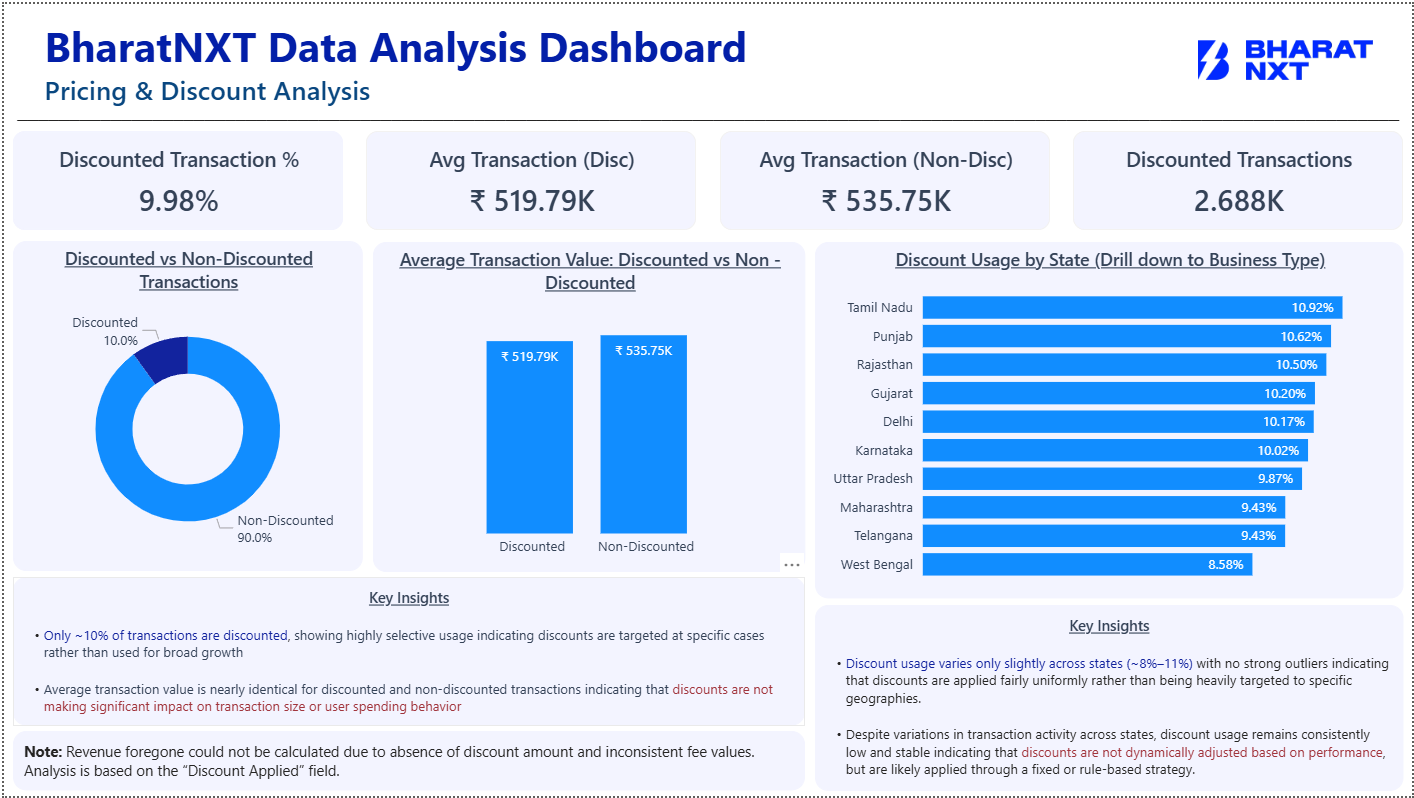

The dashboard page shown, as its layout file describes it:
{"tool":"powerbi","page":{"name":"Pricing & Discount Analysis","canvas":[1280,720],"ordinal":5},"visuals":[{"type":"textbox","box":[32,7,656,62],"z":0},{"type":"cardVisual","fields":{"Data":["Measures Table.Discounted Transaction %"]},"box":[8,115.6,300,90],"z":1000},{"type":"cardVisual","fields":{"Data":["Measures Table.Avg Transaction (Discounted)"]},"box":[329.3,115.6,300,90],"z":2000},{"type":"cardVisual","fields":{"Data":["Measures Table.Avg Txn (Non-Discounted)"]},"box":[650.7,115.6,300,90],"z":3000},{"type":"textbox","box":[32,56,367,46],"z":4000},{"type":"textbox","box":[0,91,1280,27],"z":5000},{"type":"cardVisual","fields":{"Data":["Measures Table.Discounted Transactions"]},"box":[972,115.6,300,90],"z":6000},{"type":"clusteredColumnChart","title":"Average Transaction Value: Discounted vs Non - Discounted","fields":{"Category":["Transaction MIS copy.Discount Label"],"Y":["Measures Table.Avg Transaction Value"]},"box":[335,216,393,300],"z":7000},{"type":"donutChart","title":"Discounted vs Non-Discounted Transactions","fields":{"Category":["Transaction MIS copy.Discount Label"],"Y":["Measures Table.Total Transactions"]},"box":[7.8,215.6,317.8,300],"z":8000},{"type":"clusteredBarChart","title":"Discount Usage by State (Drill down to Business Type)","fields":{"Y":["Measures Table.Discounted Transaction %"],"Category":["User MIS copy.State","User MIS copy.Business Type"]},"box":[737,216,535,324],"z":9000},{"type":"textbox","box":[7.8,661.1,720,54.4],"z":10000},{"type":"textbox","box":[7.8,521,720,135],"z":11000},{"type":"textbox","box":[737,546,535,169],"z":12000},{"type":"image","box":[1085,0,159,102],"z":13000}]}

Visuals, with their boxes in screenshot pixels (x1, y1, x2, y2), scaled from the page's 1280x720 canvas onto the 1414x798 screenshot:
textbox: {"left": 35, "top": 8, "right": 760, "bottom": 76}
cardVisual - Measures Table.Discounted Transaction %: {"left": 9, "top": 128, "right": 340, "bottom": 228}
cardVisual - Measures Table.Avg Transaction (Discounted): {"left": 364, "top": 128, "right": 695, "bottom": 228}
cardVisual - Measures Table.Avg Txn (Non-Discounted): {"left": 719, "top": 128, "right": 1050, "bottom": 228}
textbox: {"left": 35, "top": 62, "right": 441, "bottom": 113}
textbox: {"left": 0, "top": 101, "right": 1413, "bottom": 131}
cardVisual - Measures Table.Discounted Transactions: {"left": 1074, "top": 128, "right": 1405, "bottom": 228}
"Average Transaction Value: Discounted vs Non - Discounted" clusteredColumnChart: {"left": 370, "top": 239, "right": 804, "bottom": 572}
"Discounted vs Non-Discounted Transactions" donutChart: {"left": 9, "top": 239, "right": 360, "bottom": 571}
"Discount Usage by State (Drill down to Business Type)" clusteredBarChart: {"left": 814, "top": 239, "right": 1405, "bottom": 598}
textbox: {"left": 9, "top": 733, "right": 804, "bottom": 793}
textbox: {"left": 9, "top": 577, "right": 804, "bottom": 727}
textbox: {"left": 814, "top": 605, "right": 1405, "bottom": 792}
image: {"left": 1199, "top": 0, "right": 1374, "bottom": 113}
